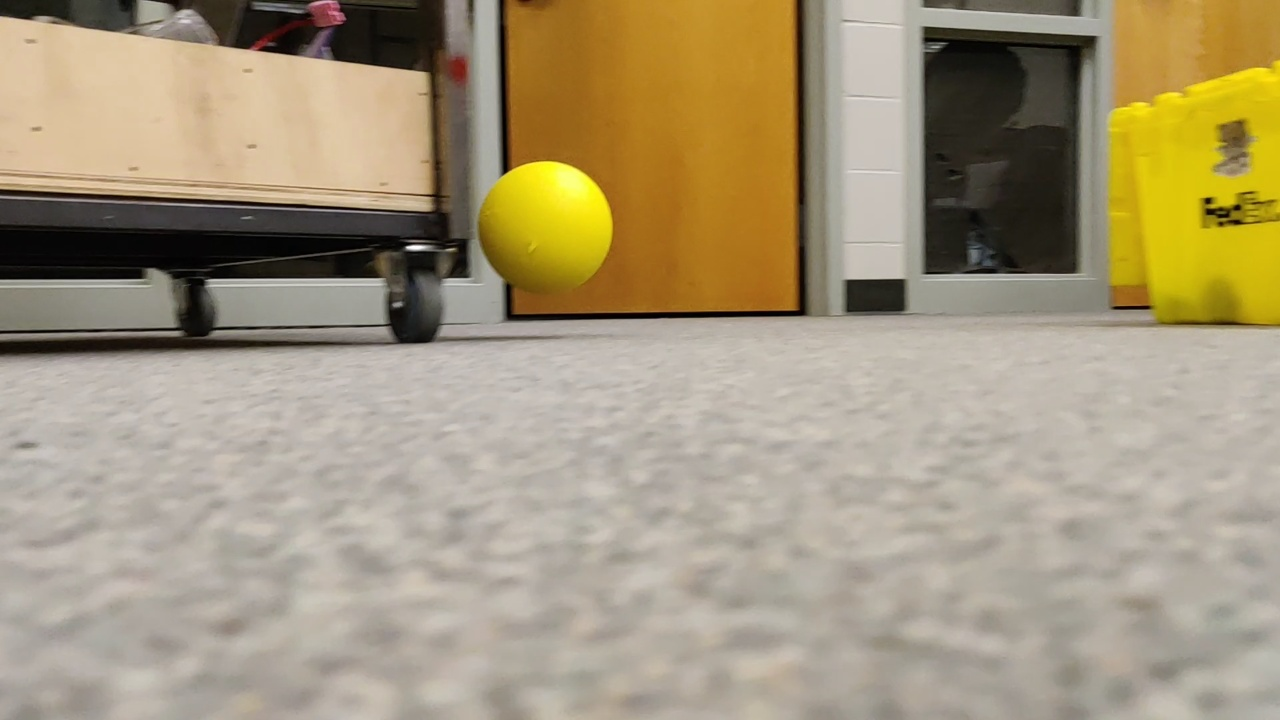Ball: (473, 155, 621, 298)
